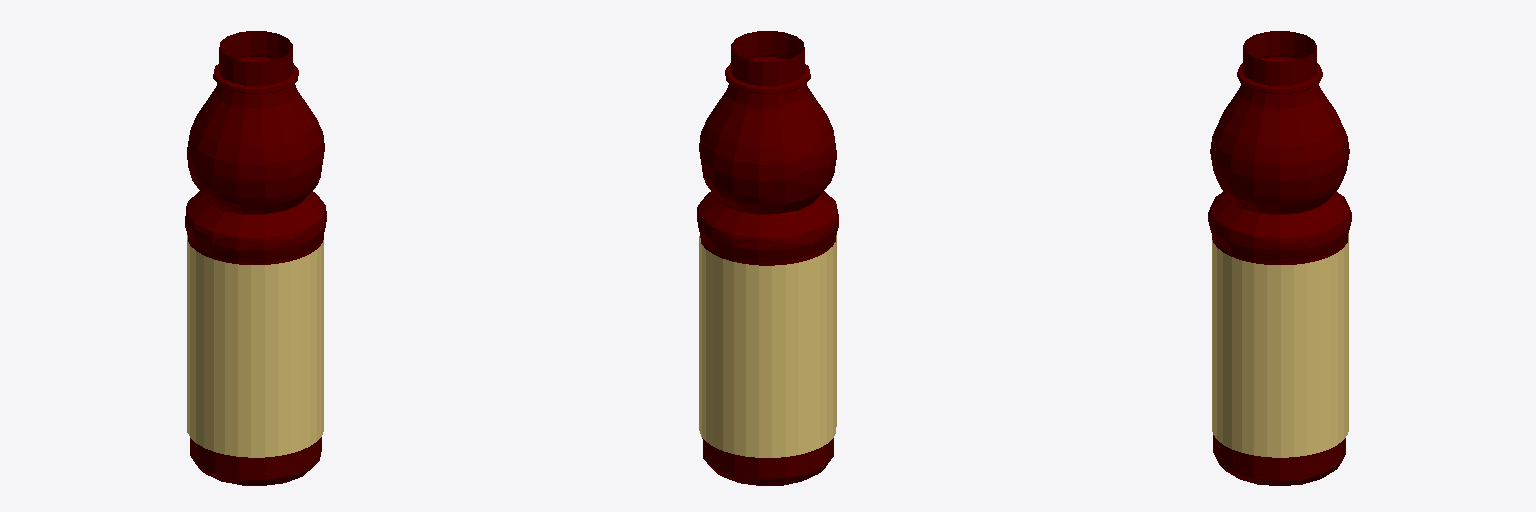
Rendered from bottle-normal.obj.
3 renders of one model, left to right at view 1: azimuth 30°, elevation 25°; view 2: azimuth 150°, elevation 25°; view 3: azimuth 270°, elevation 25°, orthographic.
Visible parts, largest first — view 1: bottle_normal, bottle_normal_label; view 2: bottle_normal, bottle_normal_label; view 3: bottle_normal, bottle_normal_label.
Boxes of the visible parts, box(x1,y1,x2,y2) form: bottle_normal: box(185, 31, 326, 485); bottle_normal_label: box(187, 235, 323, 457); bottle_normal: box(697, 31, 838, 485); bottle_normal_label: box(699, 235, 836, 457); bottle_normal: box(1208, 31, 1351, 485); bottle_normal_label: box(1212, 233, 1348, 457).
Bounding box in the file's own units: 4.82 × 15.48 × 4.82.